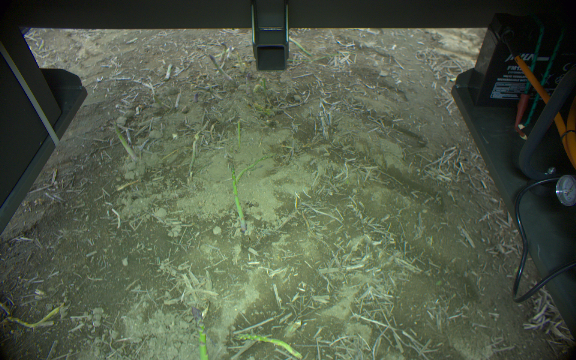aspa: (227, 329, 301, 360), (232, 153, 275, 187), (228, 161, 246, 234), (111, 117, 138, 162), (188, 305, 208, 360), (209, 51, 235, 84), (288, 34, 311, 58), (216, 42, 228, 76), (234, 119, 243, 152)
